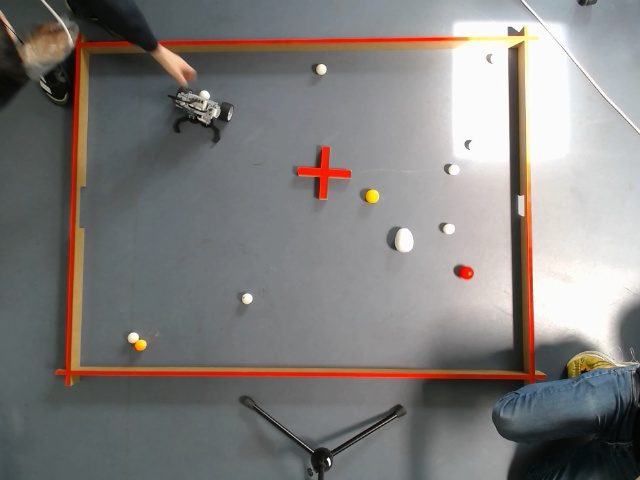big_goal: (69, 181, 93, 233)
cross: (296, 147, 353, 200)
egg: (393, 226, 414, 252)
orange: (135, 340, 147, 351)
robot: (170, 86, 234, 146)
small_goal: (514, 192, 532, 219)
wall: (508, 28, 551, 390), (65, 26, 544, 56), (53, 31, 92, 387), (53, 364, 549, 384)
white: (441, 222, 458, 234), (125, 330, 139, 343), (239, 292, 254, 304), (466, 138, 479, 151), (315, 63, 328, 75), (448, 164, 460, 176), (489, 53, 501, 64), (199, 89, 211, 100)
